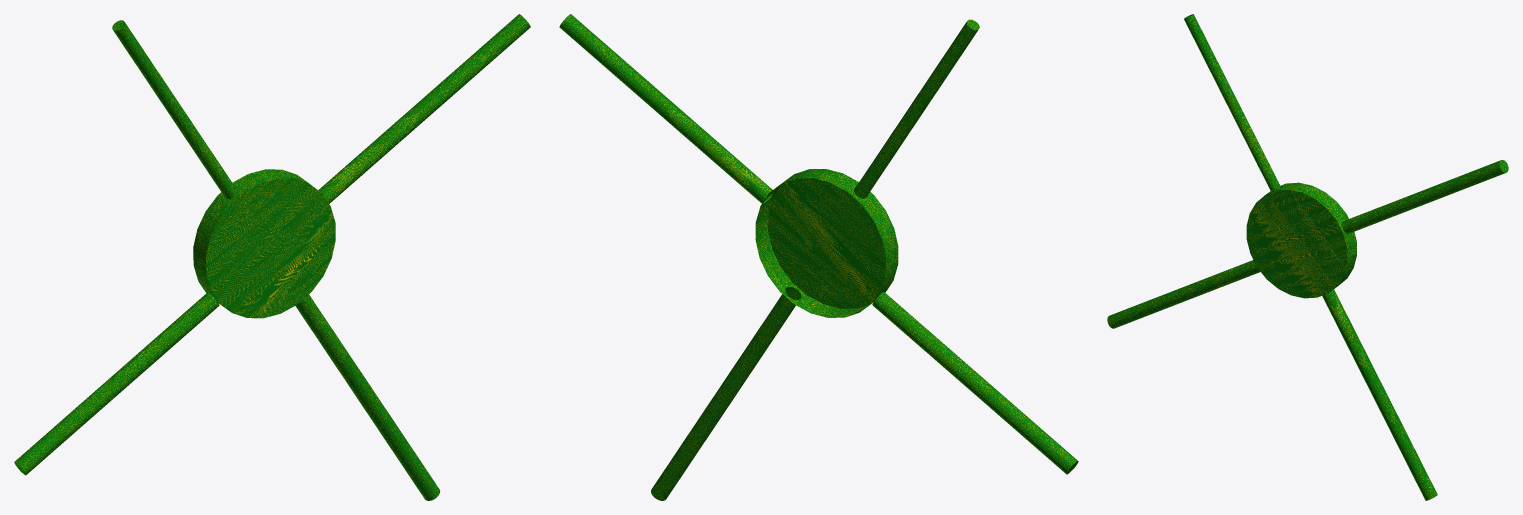
The picture shows the model from 3 angles, left to right: view 1: azimuth 30°, elevation 25°; view 2: azimuth 150°, elevation 25°; view 3: azimuth 330°, elevation 25°; orthographic projection. The views are drawn at different scales.
Parts seen in each view (by area): view 1: group_0.217; view 2: group_0.217; view 3: group_0.217.
Part boxes in pixels (box(x1,y1,x2,y2)): group_0.217: box(14, 14, 530, 500); group_0.217: box(559, 14, 1078, 500); group_0.217: box(1107, 14, 1508, 500).
Size of the model in its own units: 2.06 by 0.089 by 2.12.
